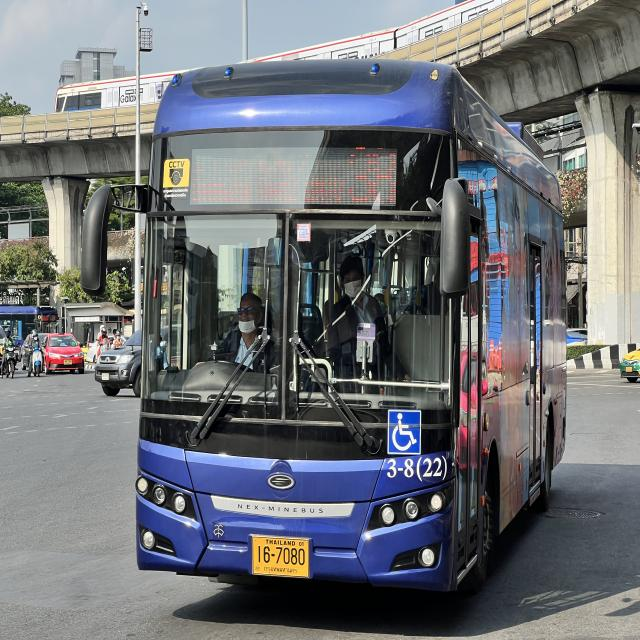Bus-Line-Number: (344, 134, 401, 218)
Destination-Sign-Normal: (188, 142, 344, 208)
TSB-Bus: (133, 58, 569, 598)
